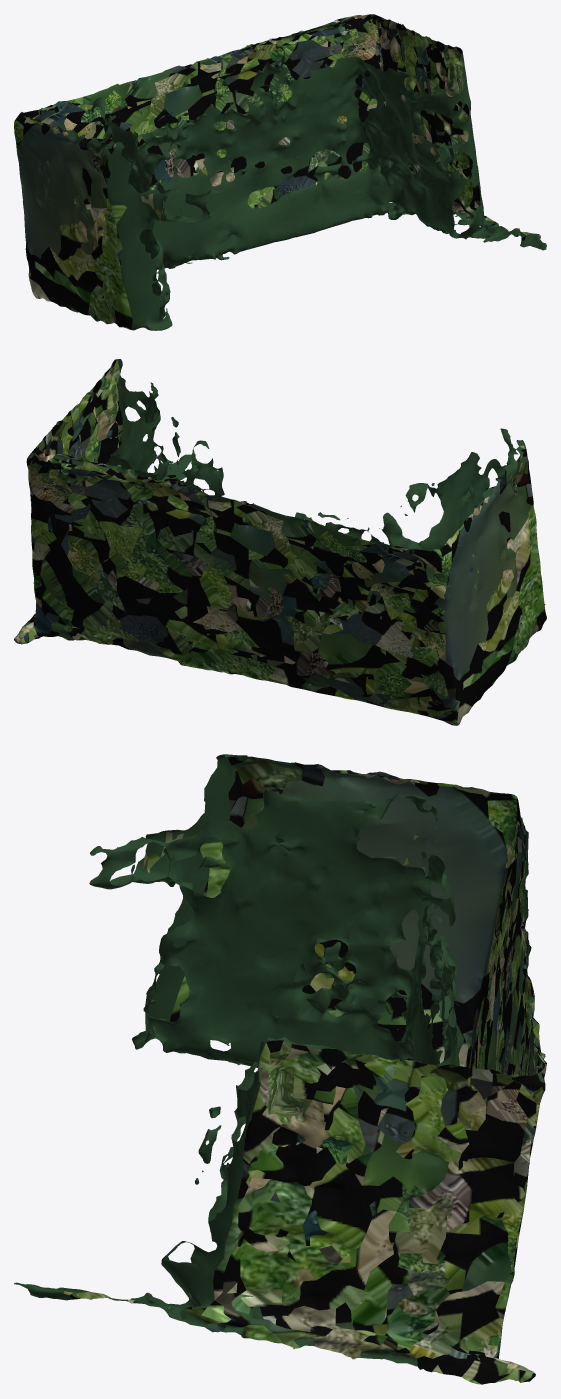
The model's file is welcomeSign_lowpoly.obj.
3 renders of one model, top to bottom at view 1: azimuth 30°, elevation 25°; view 2: azimuth 150°, elevation 25°; view 3: azimuth 270°, elevation 25°, orthographic. The views are drawn at different scales.
Bounding box in the file's own units: 3.17 × 1.58 × 2.27.
